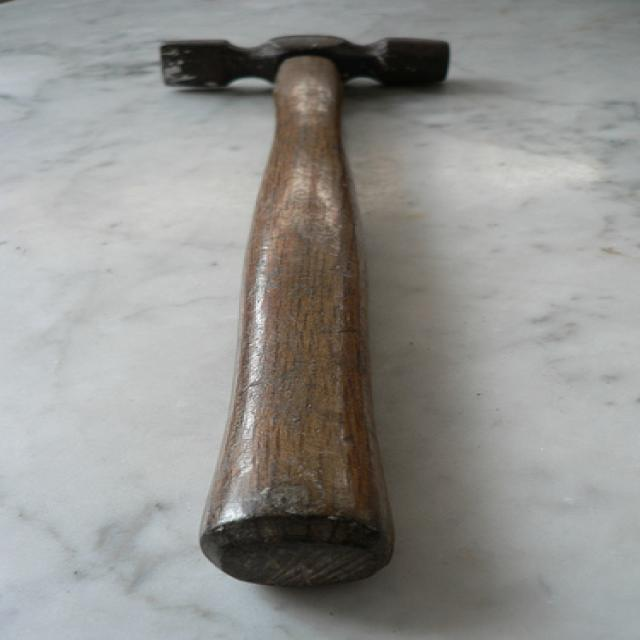hammer: (143, 28, 466, 598)
